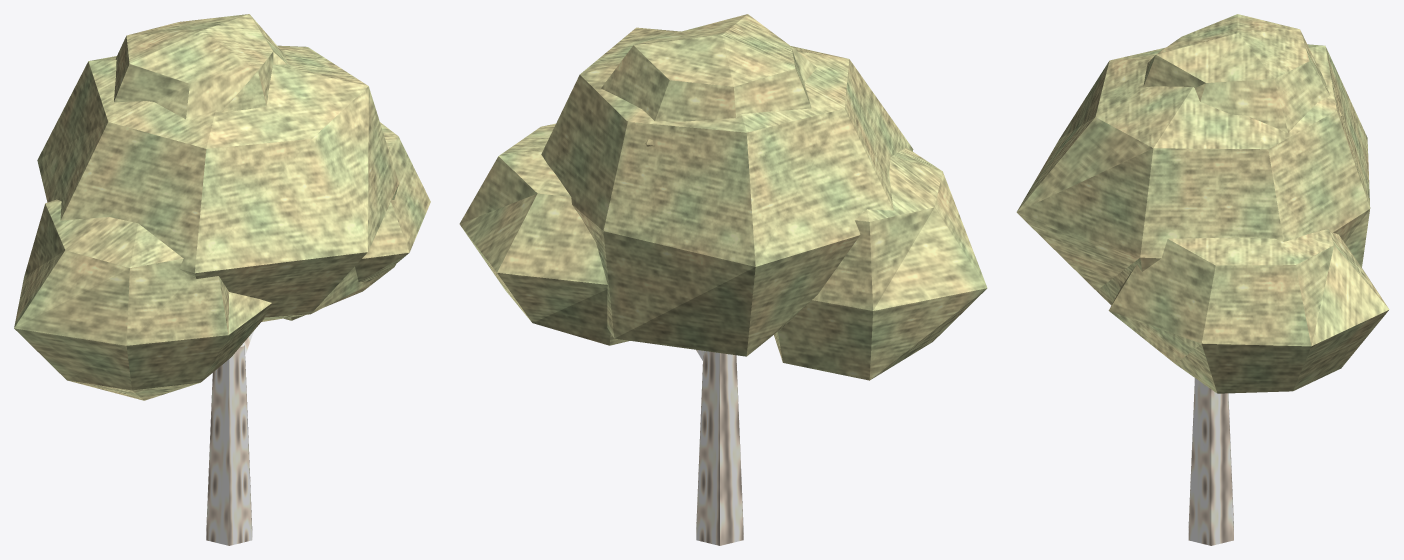
File: castagno.obj
3 renders of one model, left to right at view 1: azimuth 30°, elevation 25°; view 2: azimuth 150°, elevation 25°; view 3: azimuth 270°, elevation 25°, orthographic. The views are drawn at different scales.
Visible parts, largest first — view 1: castagno; view 2: castagno; view 3: castagno.
Part boxes in pixels (left/top/right/bottom): castagno: left=14, top=14, right=430, bottom=545; castagno: left=459, top=14, right=987, bottom=545; castagno: left=1016, top=14, right=1389, bottom=545.
Size of the model in its own units: 5.74 by 6.21 by 4.25.
4 materials, 4 textured.
